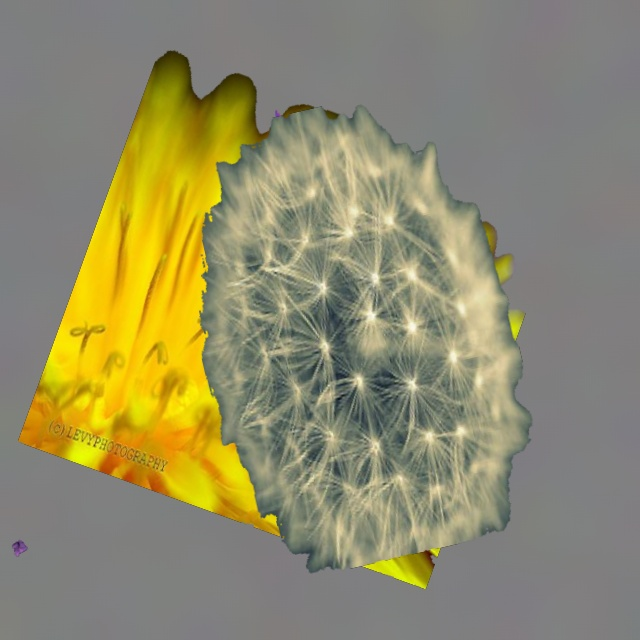butterfly flower: (230, 110, 423, 249), (12, 540, 27, 555)
dandelion: (18, 51, 524, 588), (199, 105, 531, 572)
orchid: (116, 198, 196, 392)
